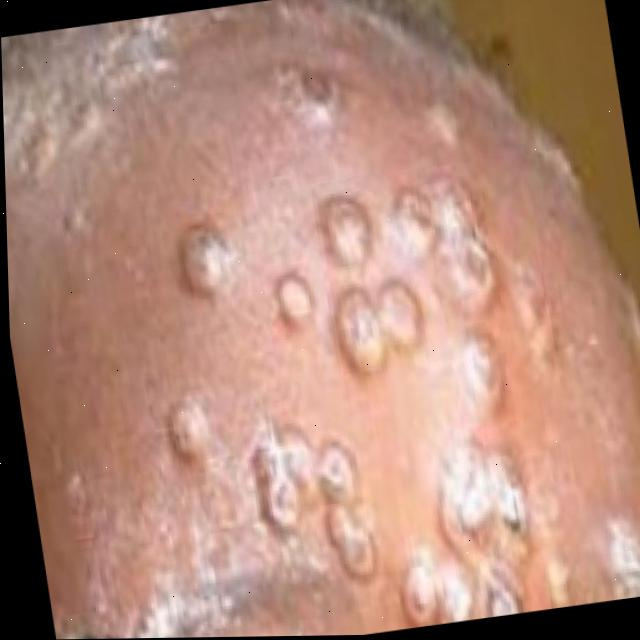Eczema: (88, 2, 640, 639)
